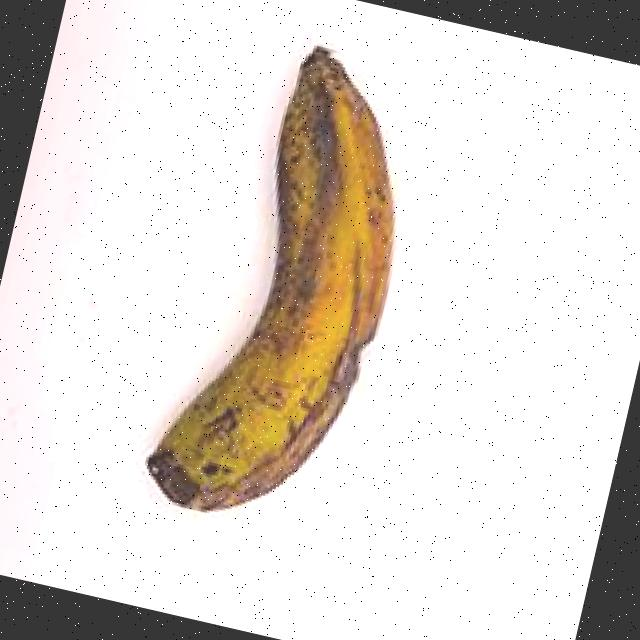Overripe: (91, 0, 483, 585)
